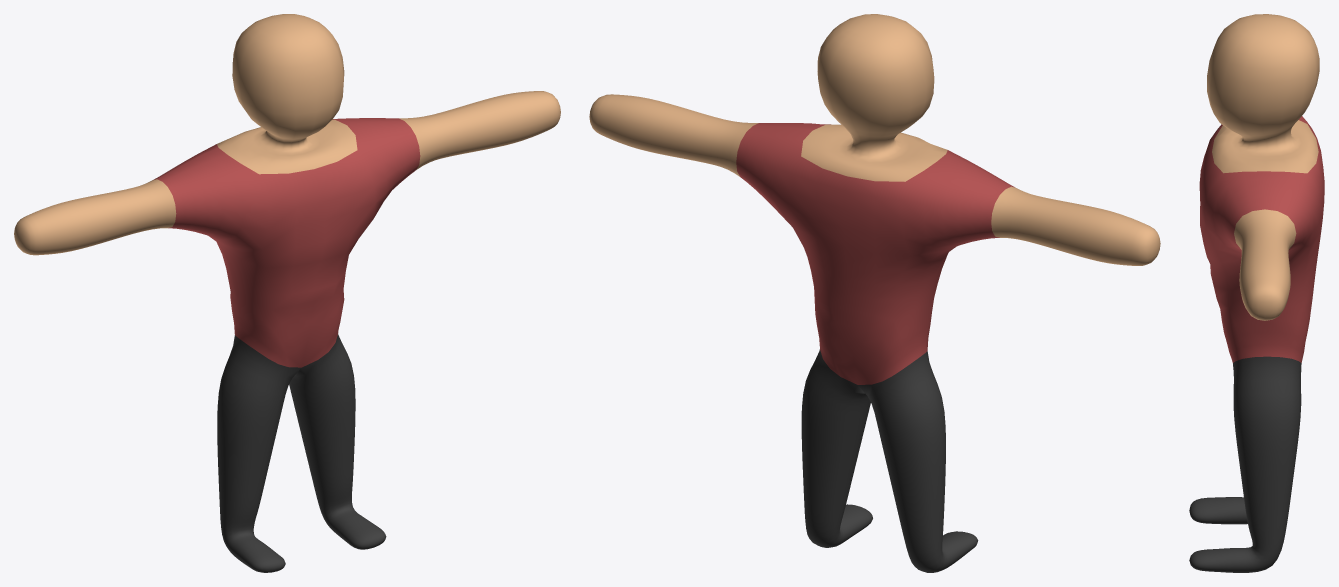
The model's file is body.glb.
3 views of the same model, side by side, from view 1: azimuth 30°, elevation 25°; view 2: azimuth 150°, elevation 25°; view 3: azimuth 270°, elevation 25° (orthographic). The views are drawn at different scales.
Visible parts, largest first — view 1: Cube; view 2: Cube; view 3: Cube.
Boxes of the visible parts, x1,y1,x2,y2 form: Cube: (14,14,560,572); Cube: (589,14,1160,572); Cube: (1189,14,1324,572).
Size of the model in its own units: 4.89 by 4.49 by 1.05.
Materials: 1 (1 with a texture image).
